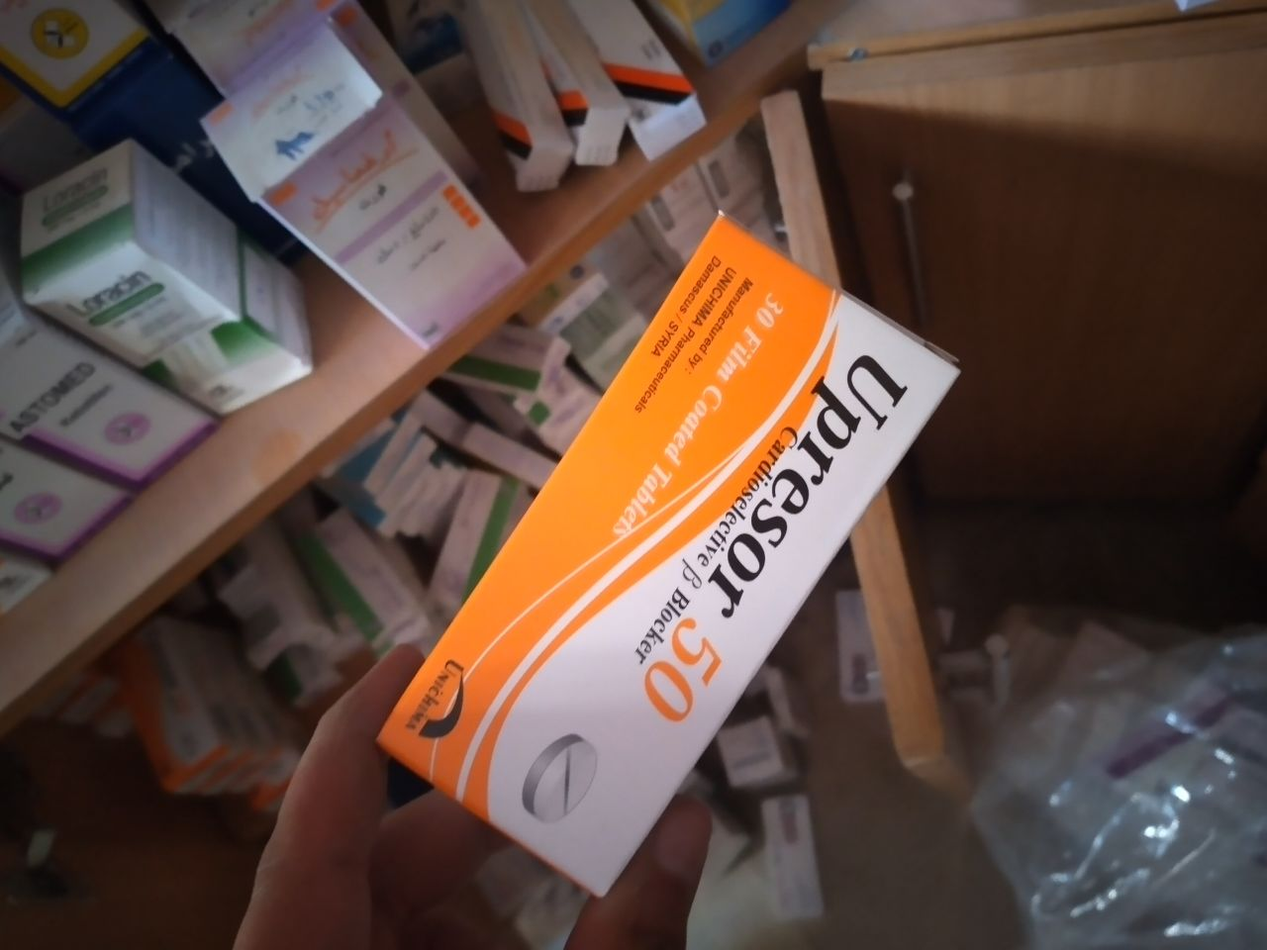Medicine: (379, 198, 970, 883), (186, 40, 532, 344), (15, 168, 332, 408), (10, 322, 213, 482)
